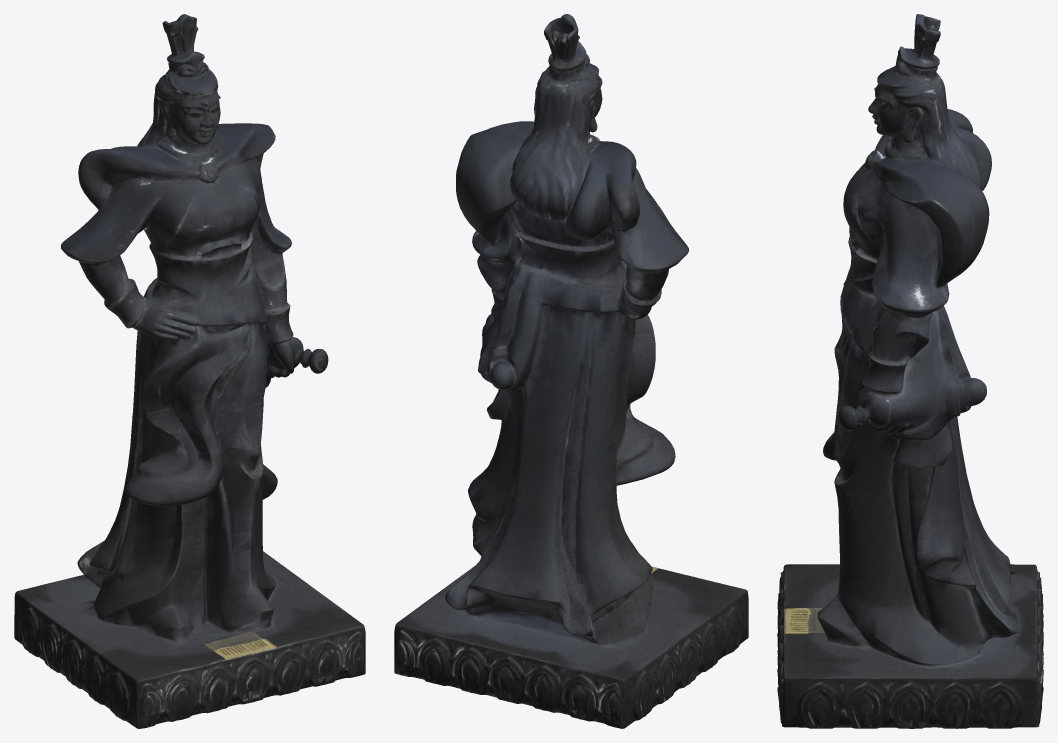
The model's file is lechan.glb.
The picture shows the model from 3 angles, left to right: view 1: azimuth 30°, elevation 25°; view 2: azimuth 150°, elevation 25°; view 3: azimuth 270°, elevation 25°; orthographic projection. The views are drawn at different scales.
Size of the model in its own units: 0.7456 by 1.9 by 0.7001.
1 material, 1 textured.
